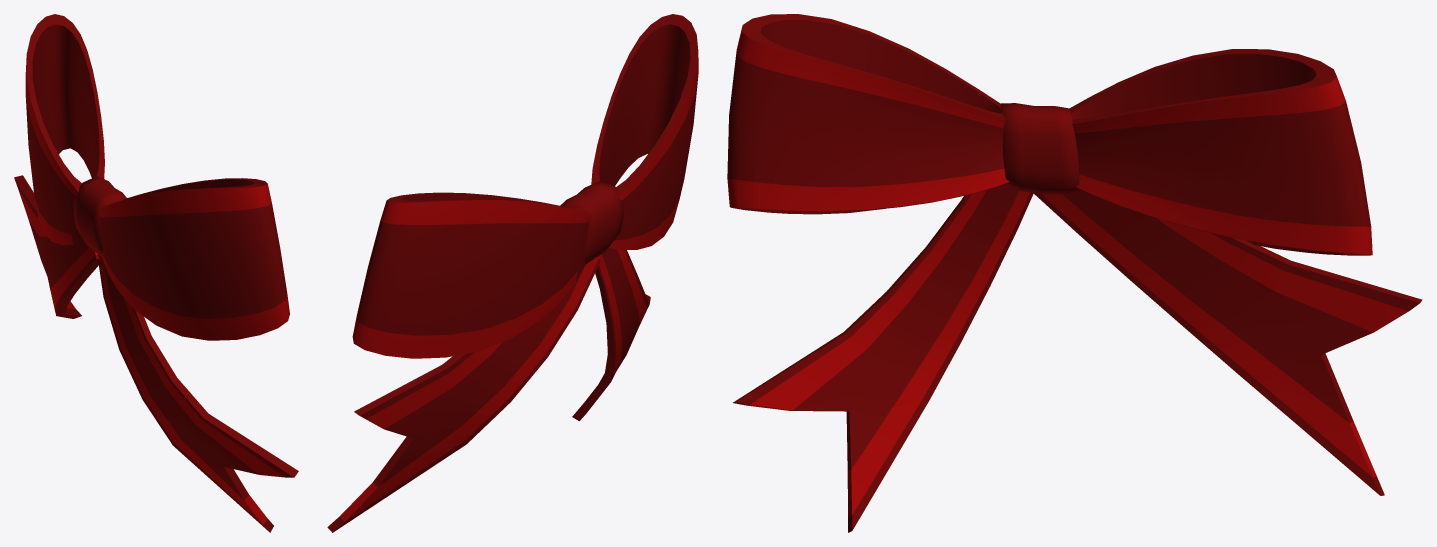
Rendered from decoration_ribbon_alone.fbx.
3 views of the same model, side by side, from view 1: azimuth 30°, elevation 25°; view 2: azimuth 150°, elevation 25°; view 3: azimuth 270°, elevation 25° (orthographic). The views are drawn at different scales.
Visible parts, largest first — view 1: decoration_ribbon_alone; view 2: decoration_ribbon_alone; view 3: decoration_ribbon_alone.
Boxes of the visible parts, x1,y1,x2,y2 form: decoration_ribbon_alone: [14, 14, 298, 532]; decoration_ribbon_alone: [327, 14, 698, 532]; decoration_ribbon_alone: [727, 14, 1422, 532].
Size of the model in its own units: 7.29 by 17.94 by 23.93.
